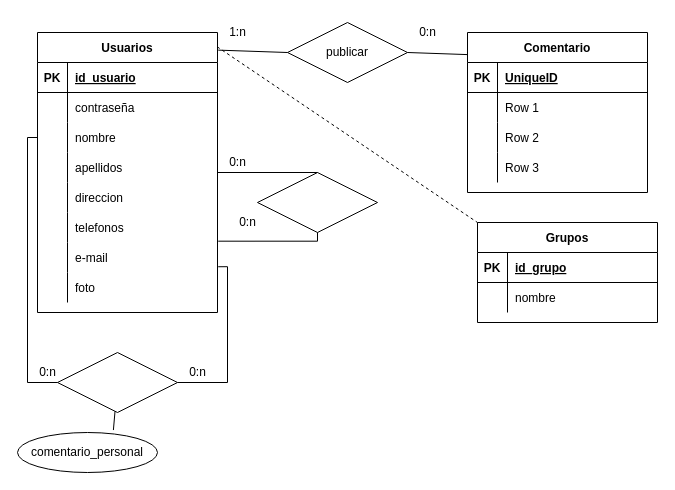
This 675x490 diagram has some shape labels left out. Here are the shapes that lost their labels. From the top down, the centre of each, then its label:
At point 317,202: "bloquear".
At point 117,382: "contacta".
